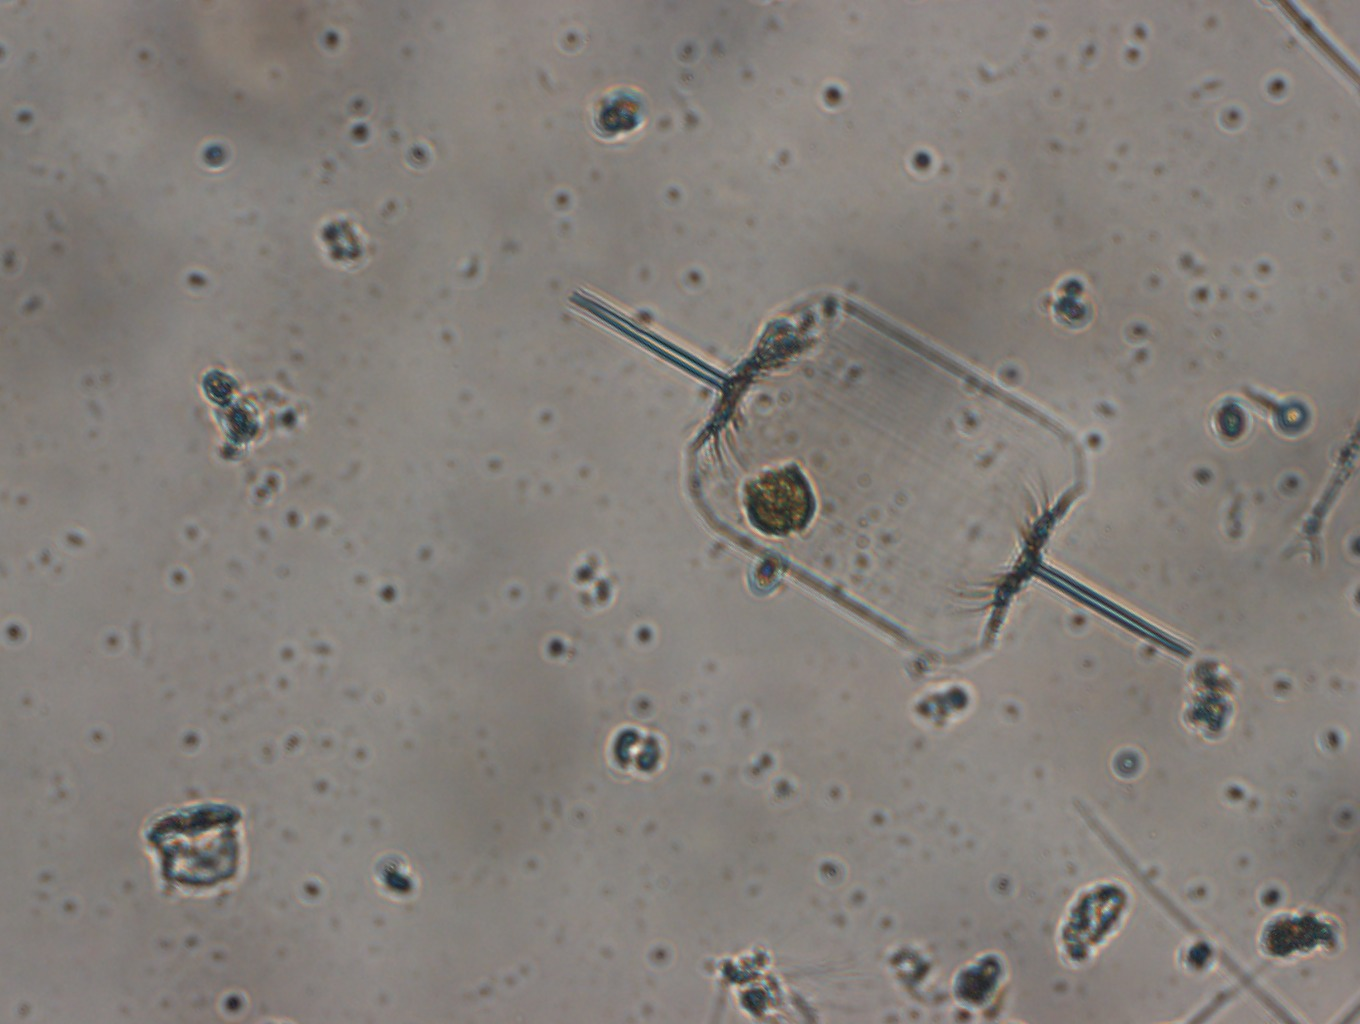ditylum: (561, 276, 1200, 667)
